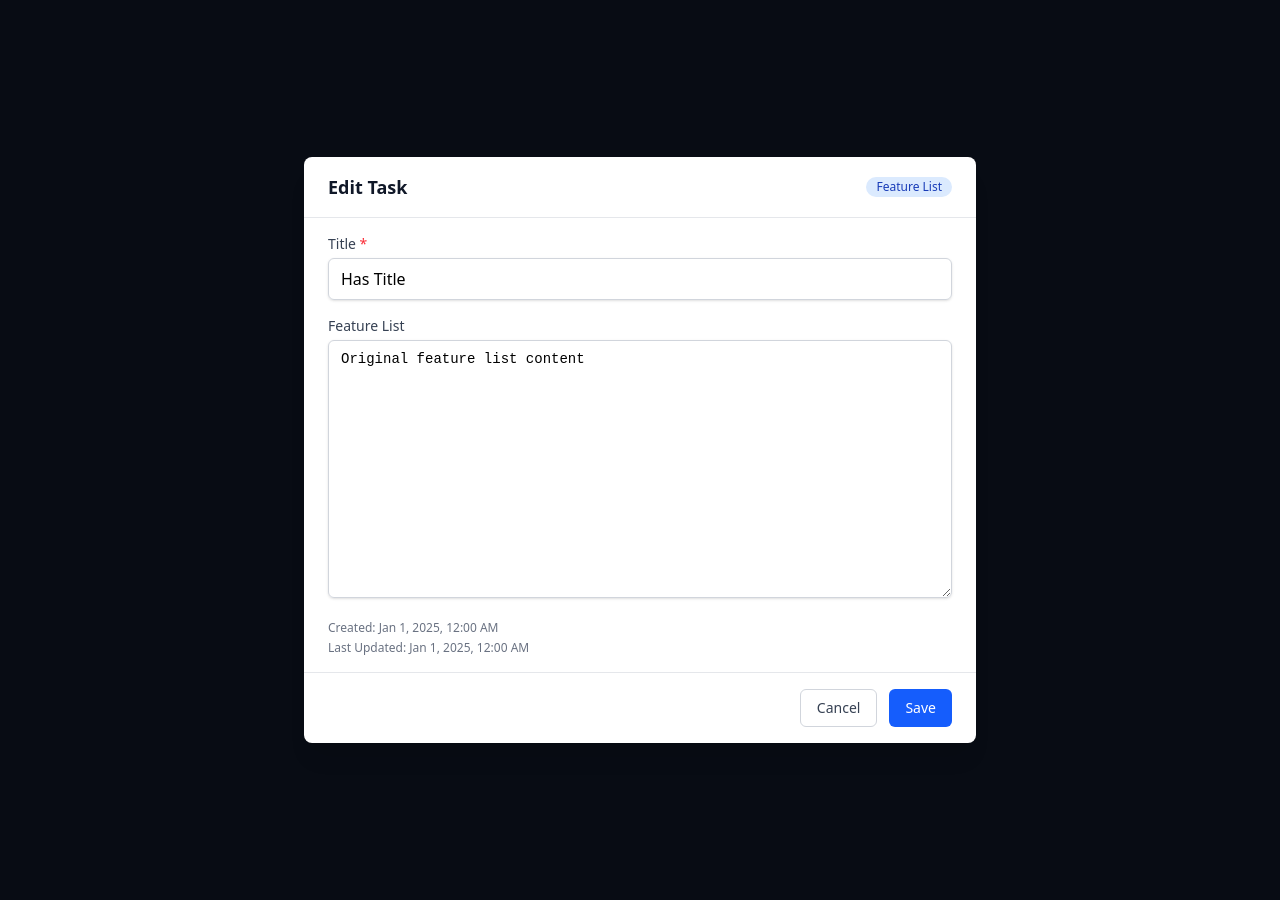
it: TaskEditModal › Validation › should disable save button when title is empty
This screenshot has width=1280, height=900.
Clear the field labelled "Title *" at (640, 279), box [328,258,952,300]
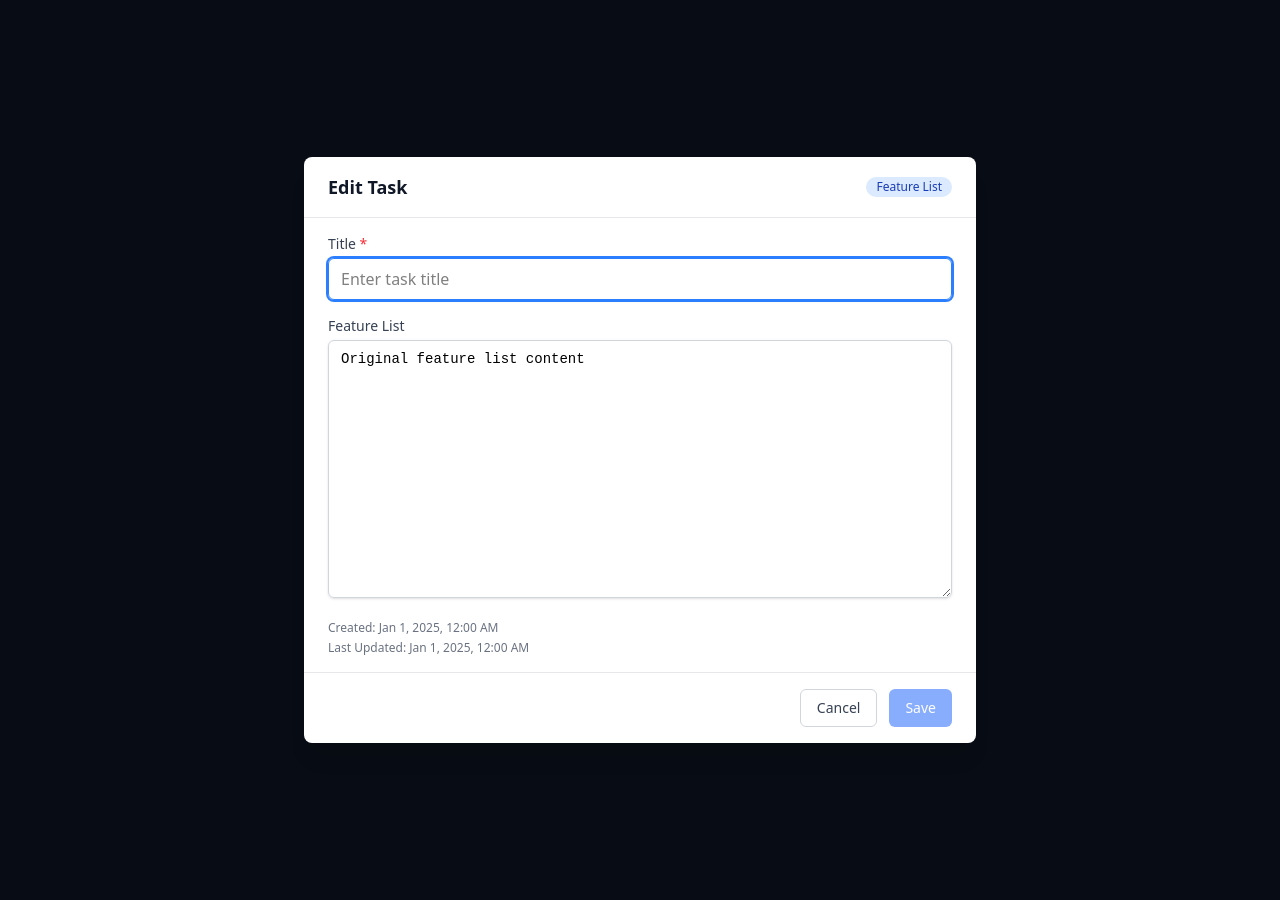
Expected: the button "Save" is disabled, [889,689,952,727]
